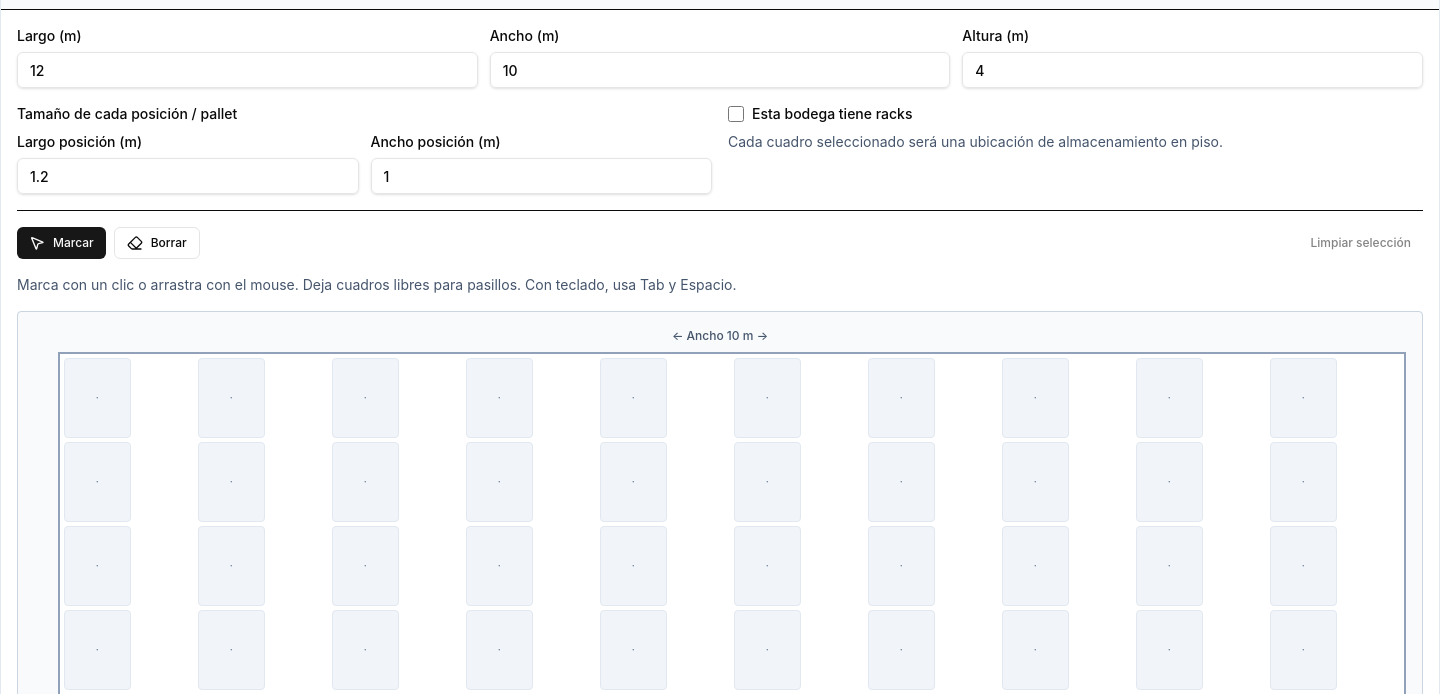
Test: Diseñador de ubicaciones › marca posiciones, genera capacidad por nivel y permite borrarlas
The width and height of the screenshot is (1440, 694).
Click the button named "Posición P-01-01". click: (97,398)
box: x1=64 y1=358 x2=131 y2=438
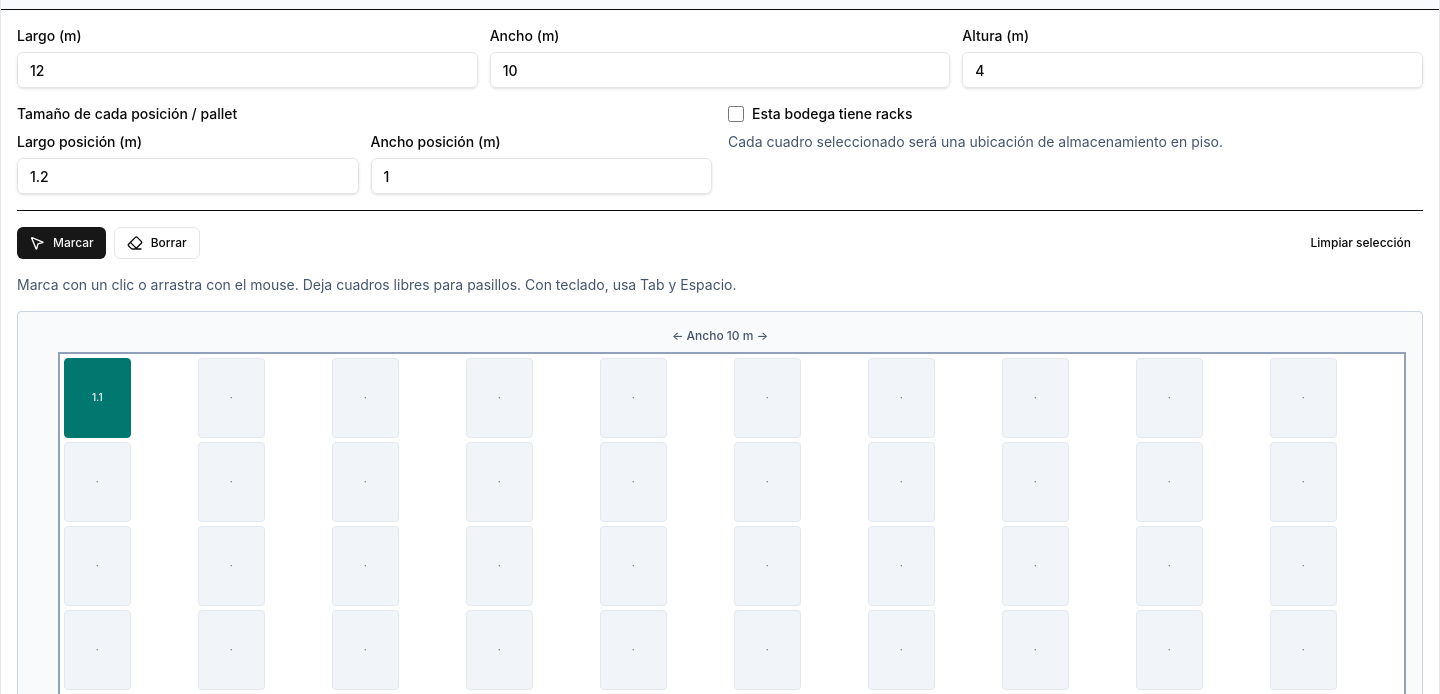
Click the button named "Posición P-01-02". click: (231,398)
box: x1=198 y1=358 x2=265 y2=438
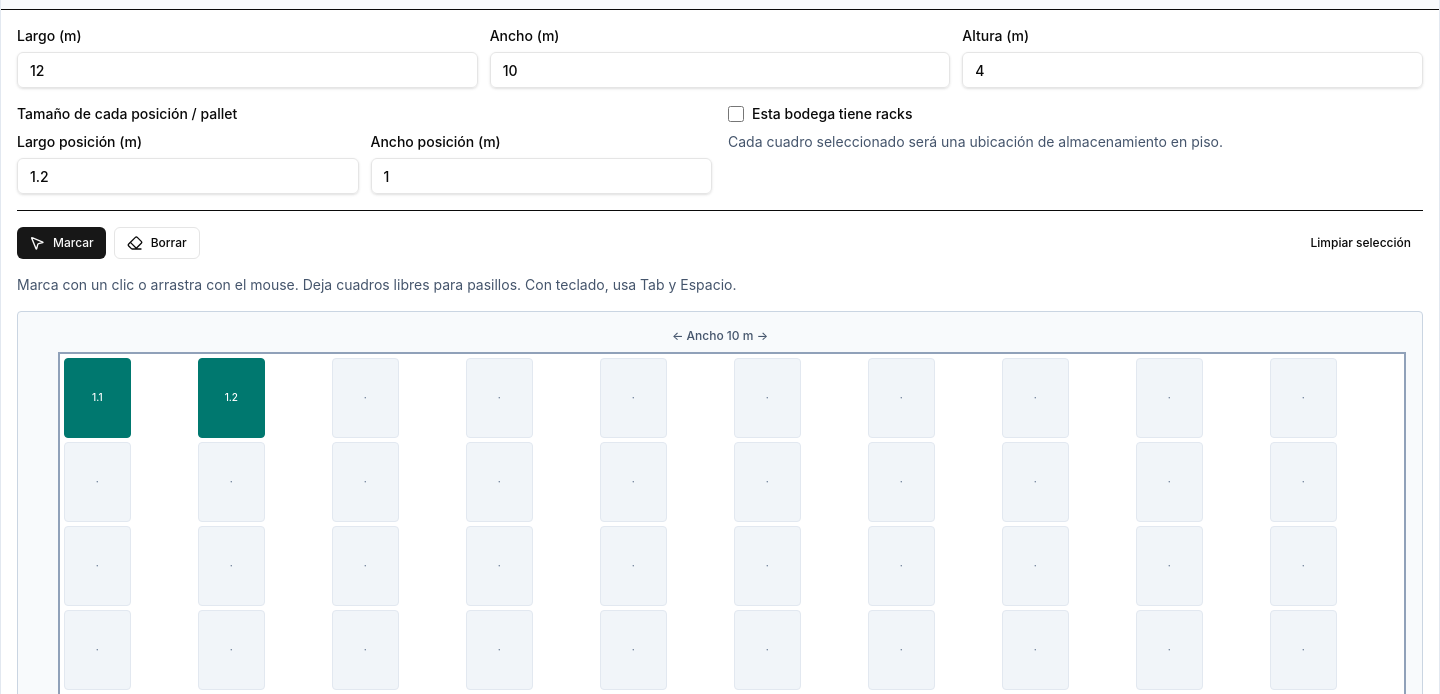
Click the checkbox labelled "Esta bodega tiene racks". click: (736,114)
box: x1=728 y1=106 x2=744 y2=122
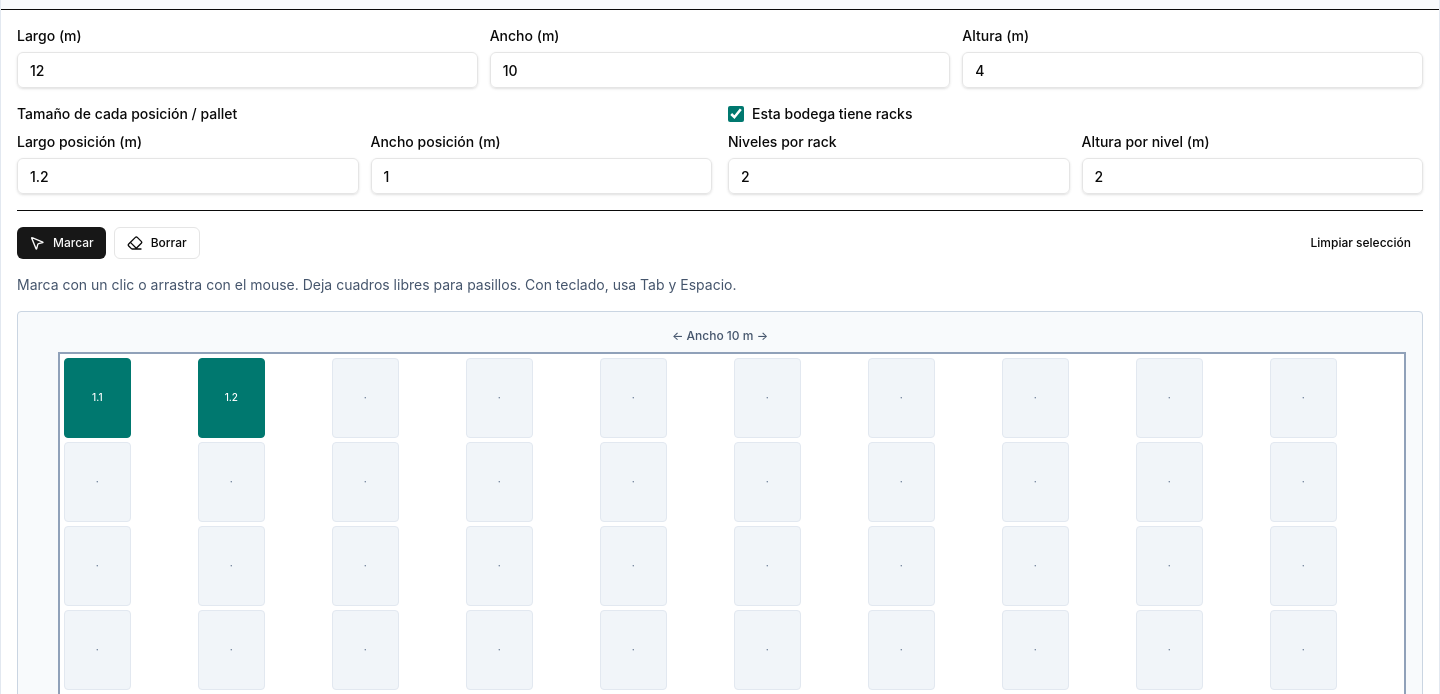
Check: the button named "Posición R-01-01-N01" is pressed, box x1=64 y1=358 x2=131 y2=438
Click the button "Borrar". click: (157,243)
box: x1=114 y1=227 x2=200 y2=259
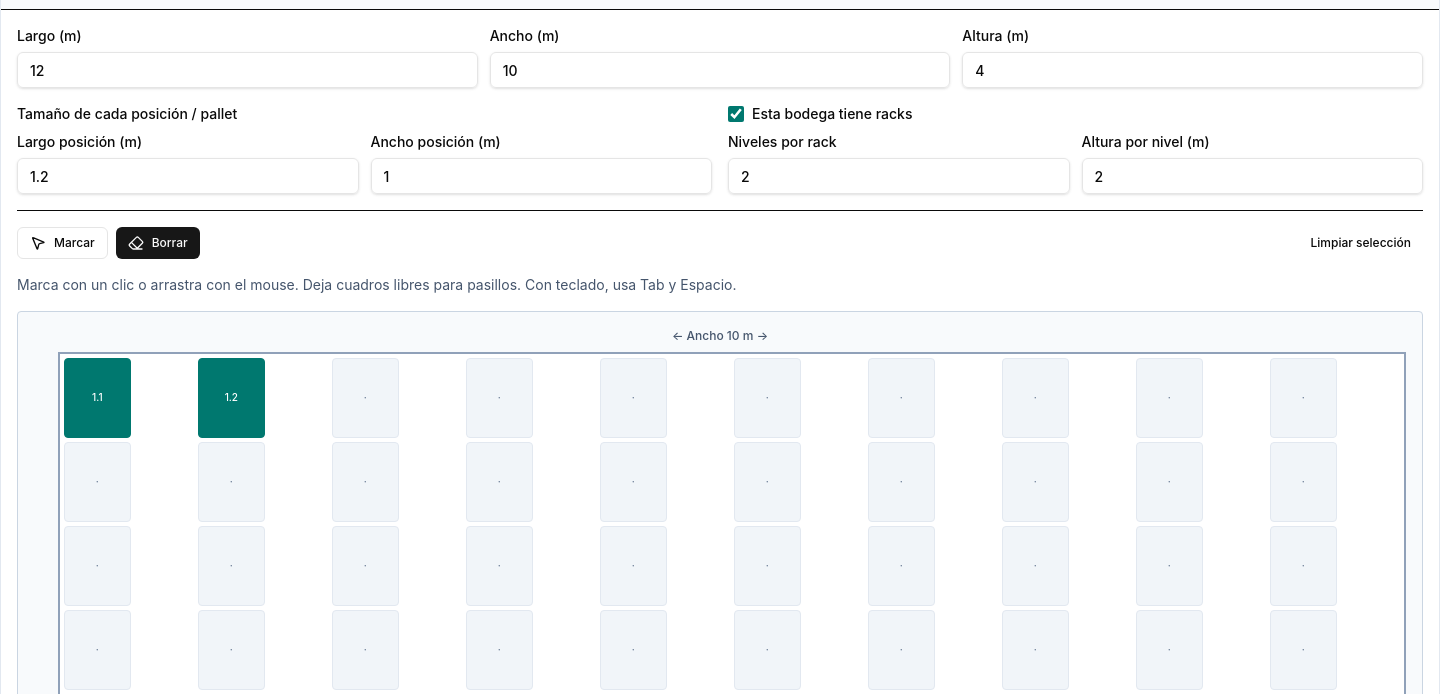
Click the button named "Posición R-01-01-N01". click: (97,398)
box: x1=64 y1=358 x2=131 y2=438
(page scrolled)
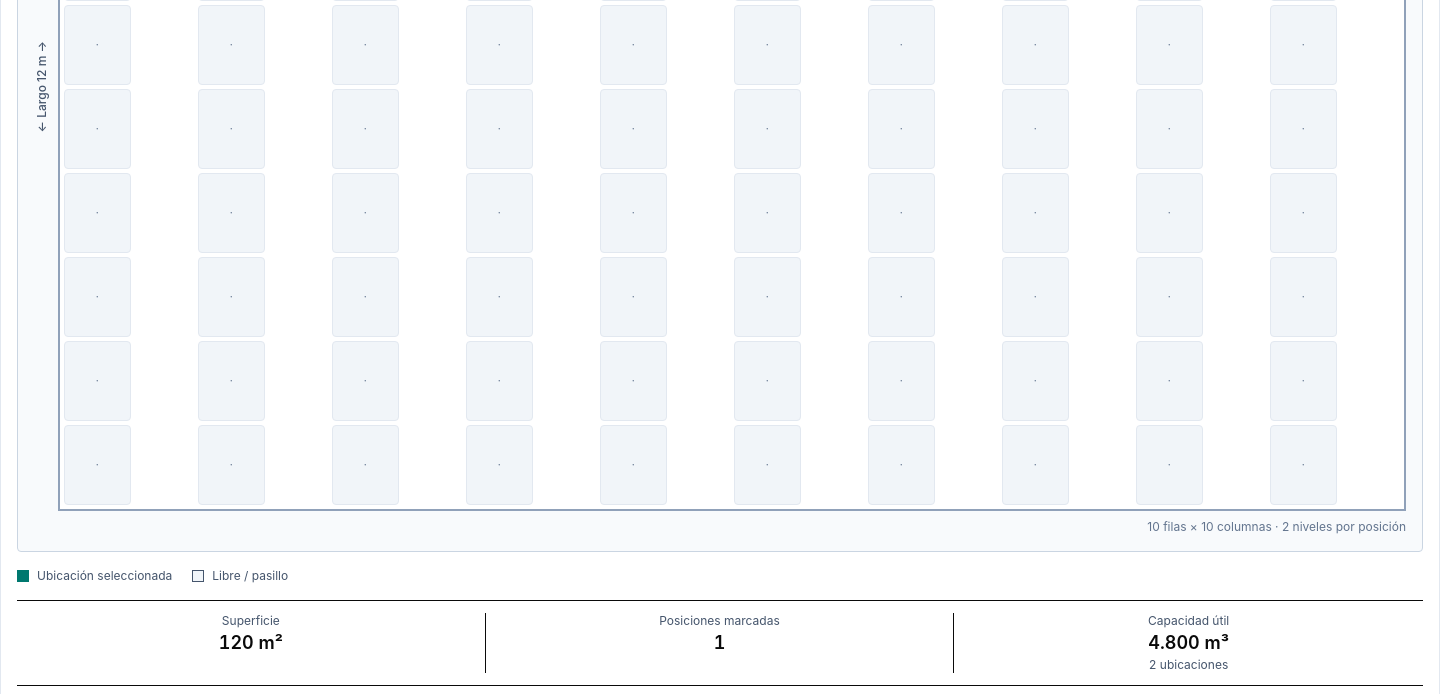
Check: the text named "Capacidad del plano" shows "2", box x1=1149 y1=657 x2=1156 y2=672
